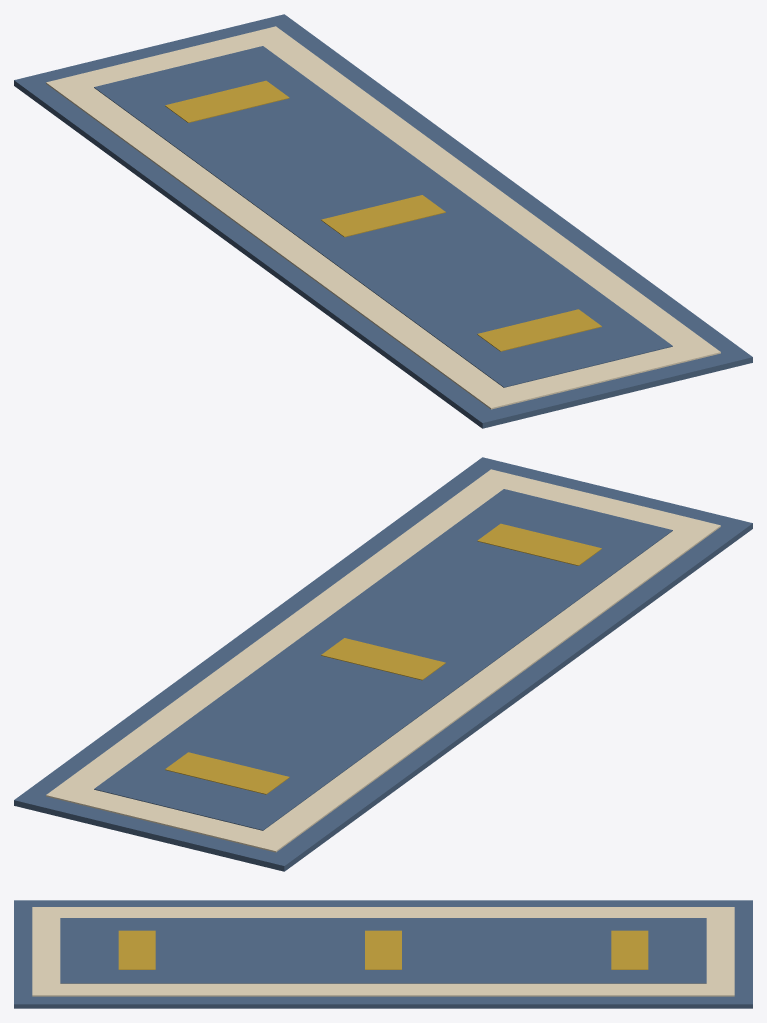
The model's file is GH_Rug_02.glb.
3 renders of one model, top to bottom at view 1: azimuth 30°, elevation 25°; view 2: azimuth 150°, elevation 25°; view 3: azimuth 270°, elevation 25°, orthographic. The views are drawn at different scales.
Visible parts, largest first — view 1: GH_Rug_02; view 2: GH_Rug_02; view 3: GH_Rug_02.
Boxes of the visible parts, left/top/right/bottom form: GH_Rug_02: left=14, top=14, right=752, bottom=428; GH_Rug_02: left=14, top=457, right=752, bottom=871; GH_Rug_02: left=14, top=900, right=752, bottom=1008.
Size of the model in its own units: 0.8 by 0.024 by 2.4.
1 material, 1 textured.
